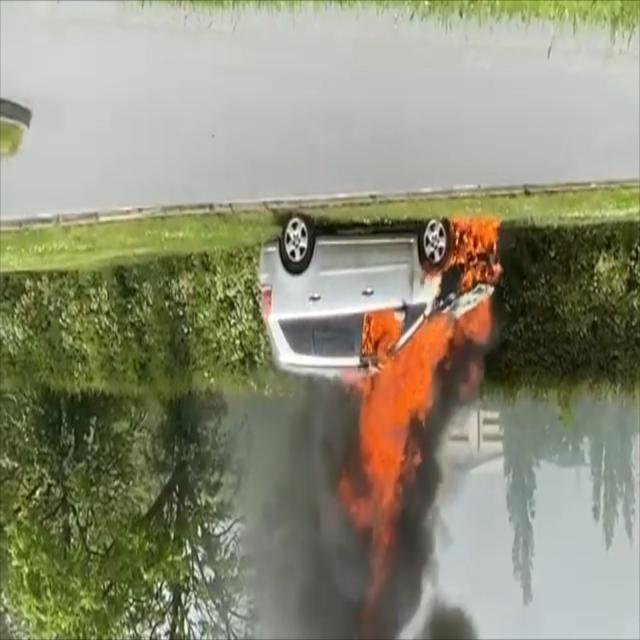fire: (343, 203, 504, 541)
